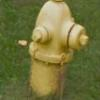Hydrant: (19, 4, 89, 100)
